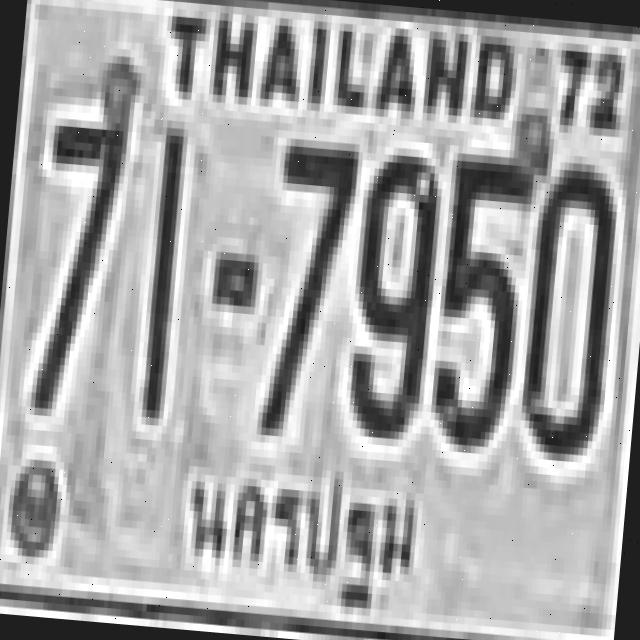0: (514, 153, 616, 456)
1: (138, 123, 185, 414)
5: (427, 145, 533, 441)
7: (26, 80, 132, 413), (257, 130, 356, 433)
9: (343, 145, 440, 433)
NakhonPathom: (167, 432, 441, 624)
